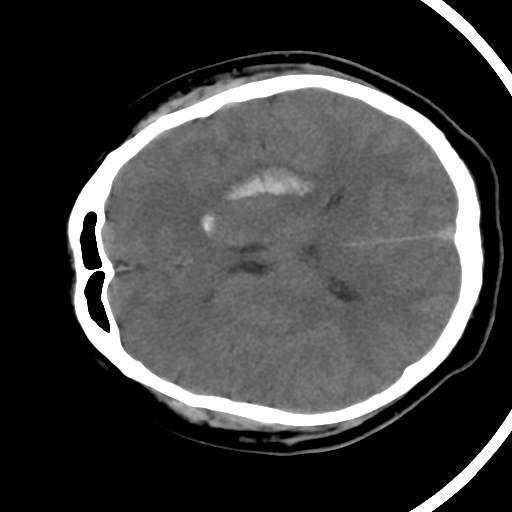a: (204, 149, 338, 215)
